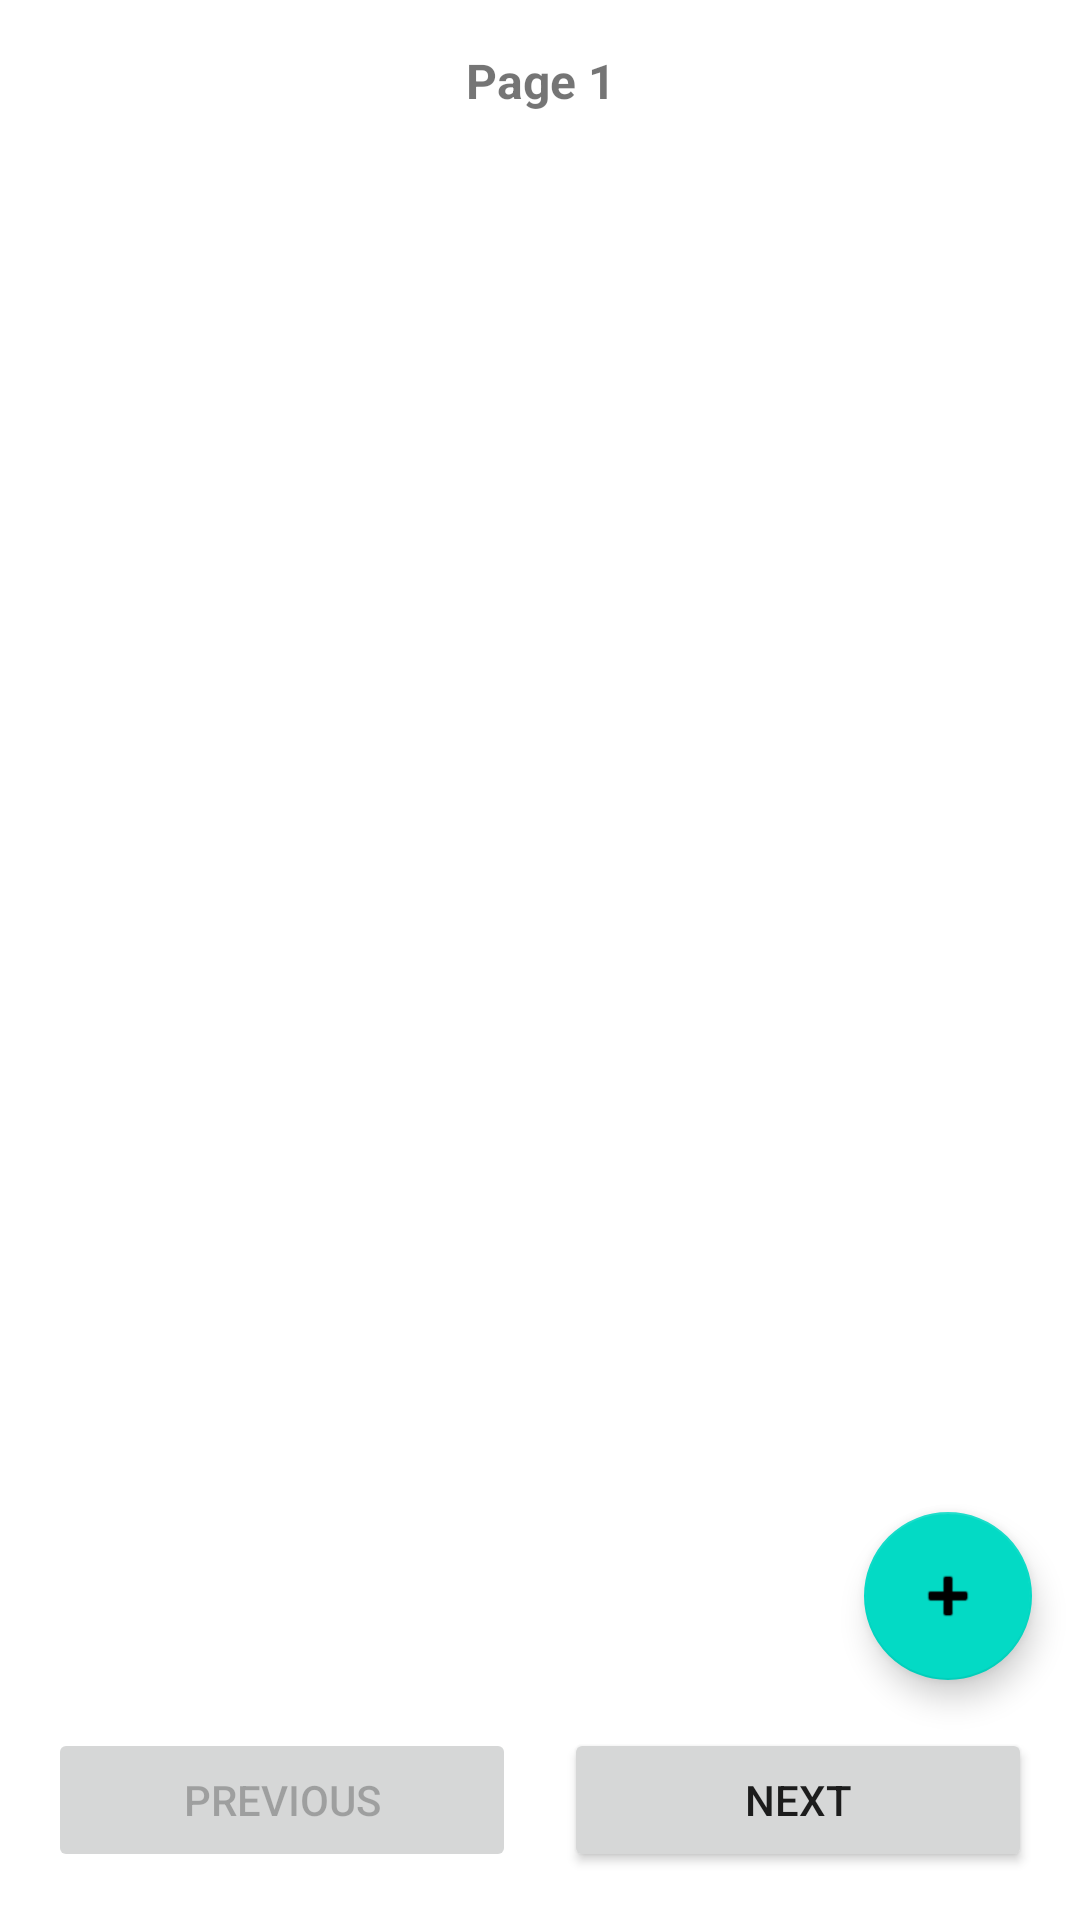

Icons on this 1080x1920 Android screen, each with the point to tap as (x,y):
add: (948,1596)
